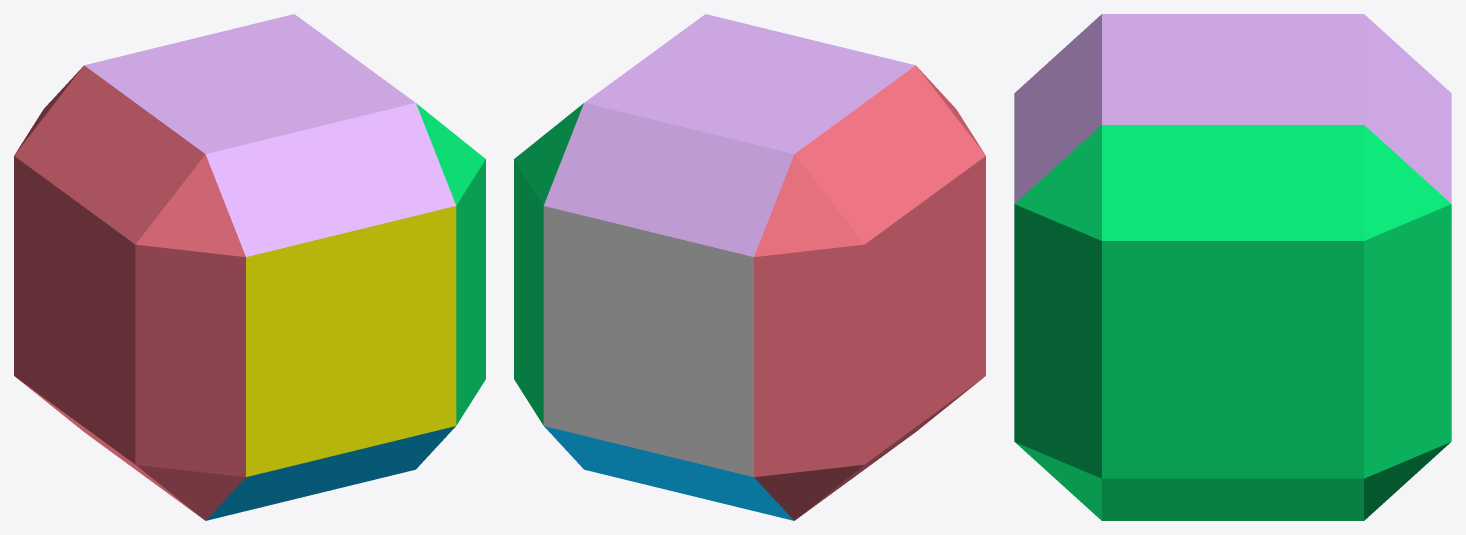
File: chamfer.glb
3 renders of one model, left to right at view 1: azimuth 30°, elevation 25°; view 2: azimuth 150°, elevation 25°; view 3: azimuth 270°, elevation 25°, orthographic. The views are drawn at different scales.
Visible parts, largest first — view 1: COMPOUND; view 2: COMPOUND; view 3: COMPOUND.
Part boxes in pixels (left/top/right/bottom): COMPOUND: left=14, top=14, right=485, bottom=520; COMPOUND: left=514, top=14, right=985, bottom=520; COMPOUND: left=1014, top=14, right=1451, bottom=520.
Bounding box in the file's own units: 0.001 × 0.001 × 0.001.
